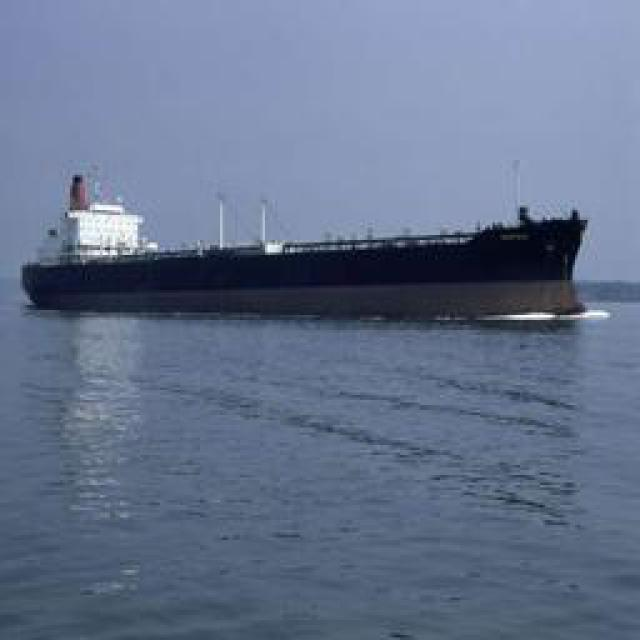Ship: (16, 200, 589, 298)
